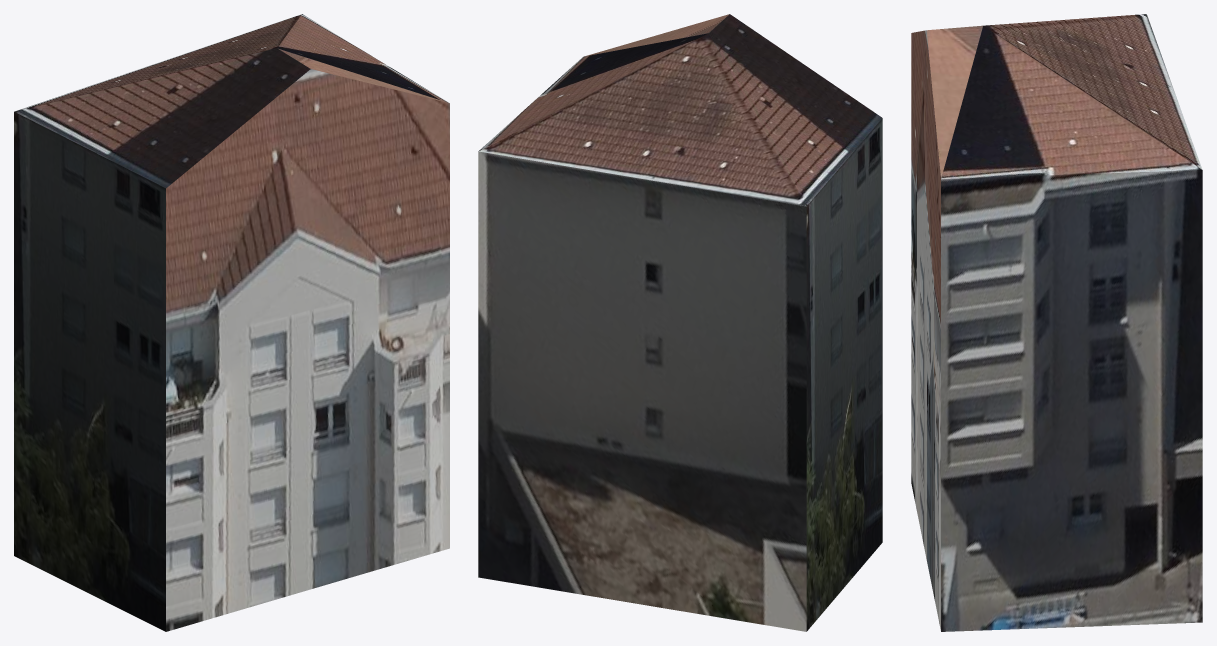
3 renders of one model, left to right at view 1: azimuth 30°, elevation 25°; view 2: azimuth 150°, elevation 25°; view 3: azimuth 270°, elevation 25°, orthographic. The views are drawn at different scales.
Parts seen in each view (by area): view 1: Z_UP; view 2: Z_UP; view 3: Z_UP.
Part boxes in pixels (x1,y1,x2,y2): Z_UP: [14, 14, 449, 631]; Z_UP: [478, 14, 882, 631]; Z_UP: [911, 14, 1202, 631].
Bounding box in the file's own units: 12.75 × 19.02 × 9.45.
Materials: 2 (1 with a texture image).
